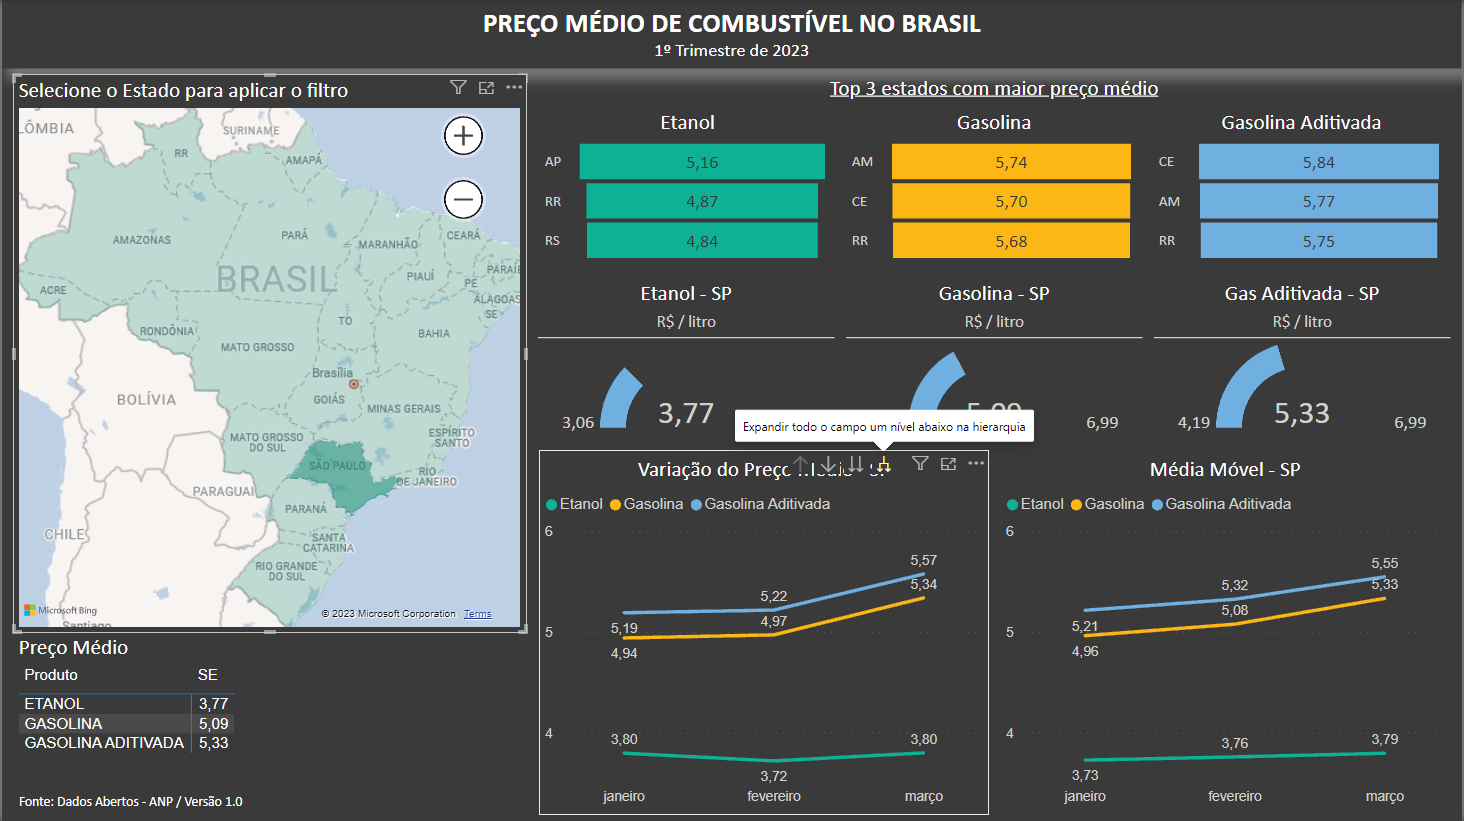

The page's visual inventory and layout, read from the dashboard file:
{"tool":"powerbi","page":{"name":"Preço Médio","canvas":[1280,720],"ordinal":0},"visuals":[{"type":"lineChart","fields":{"Category":["preco_tratado.Data_Coleta.Variation.Hierarquia de datas.Mês","preco_tratado.Data_Coleta.Variation.Hierarquia de datas.Dia"],"Y":["Medidas.MediaNacEtanol","Medidas.MediaNacGasComum","Medidas.MediaNacGasAdit"]},"box":[470.9,395,395,320],"z":0},{"type":"lineChart","fields":{"Y":["Medidas.Média móvel de MediaNacEtanol","Medidas.Média móvel de MediaNacGasComum","Medidas.Média móvel de MediaNacGasAdit"],"Category":["preco_tratado.Data_Coleta.Variation.Hierarquia de datas.Mês","preco_tratado.Data_Coleta.Variation.Hierarquia de datas.Dia"]},"box":[874.9,395,395.1,320],"z":1000},{"type":"filledMap","title":"Selecione o Estado para aplicar o filtro","fields":{"Category":["preco_tratado.Estado"]},"box":[10,65,450,490],"z":2000},{"type":"pivotTable","fields":{"Rows":["preco_tratado.Produto"],"Columns":["preco_tratado.Regiao"],"Values":["Medidas.MediaValorVenda"]},"box":[10,554.7,450,123.7],"z":3000},{"type":"funnel","title":"Gasolina ","fields":{"Category":["TOPMediaGas.Estado"],"Y":["Avg(TOPMediaGas.GAS)"]},"box":[740.2,95,260,140.1],"z":4000},{"type":"textbox","box":[0,0,1280,60],"z":5000},{"type":"funnel","title":"Gasolina Aditivada","fields":{"Category":["TOPMediaGasAdit.Estado"],"Y":["Avg(TOPMediaGasAdit.GAS_ADIT)"]},"box":[1009.6,95,260.7,140.1],"z":6000},{"type":"funnel","title":"Etanol","fields":{"Category":["TOPMediaEtanol.Estado"],"Y":["Avg(TOPMediaEtanol.ETANOL)"]},"box":[470.8,95,260.7,140.1],"z":7000},{"type":"textbox","title":"Top 3 estados com maior preço médio","box":[470.2,65,800.1,30],"z":8000},{"type":"textbox","box":[10,690,225.5,25.9],"z":9000},{"type":"textbox","box":[470,245.1,260,52],"z":10000},{"type":"gauge","fields":{"Y":["Medidas.MediaNacEtanol"],"MinValue":["Medidas.MinMediaNacEtanol"],"MaxValue":["Medidas.MaxMediaNacEtanol"]},"box":[470,297.6,259.7,87.5],"z":11000},{"type":"textbox","box":[740,245,260,52],"z":12000},{"type":"gauge","fields":{"Y":["Medidas.MediaNacGasComum"],"MinValue":["Medidas.MinMediaNacGas"],"MaxValue":["Medidas.MaxMediaNacGas"]},"box":[740,297,259.7,87.5],"z":13000},{"type":"textbox","box":[1010.7,245,260,52],"z":14000},{"type":"gauge","fields":{"Y":["Medidas.MediaNacGasAdit"],"MinValue":["Medidas.MinMediaNacGasAdt"],"MaxValue":["Medidas.MaxMediaNacGasAdt"]},"box":[1010.7,297,259.7,87.5],"z":15000}]}

Visuals, with their boxes in screenshot pixels (x1, y1, x2, y2), scaled from the page's 1280x720 canvas onto the 1464x821 screenshot:
lineChart - preco_tratado.Data_Coleta.Variation.Hierarquia de datas.Mês x preco_tratado.Data_Coleta.Variation.Hierarquia de datas.Dia: 539,450,990,815
lineChart - Medidas.Média móvel de MediaNacEtanol x Medidas.Média móvel de MediaNacGasComum: 1001,450,1453,815
"Selecione o Estado para aplicar o filtro" filledMap: 11,74,526,633
pivotTable - preco_tratado.Produto x preco_tratado.Regiao: 11,633,526,774
"Gasolina " funnel: 847,108,1144,268
textbox: 0,0,1463,68
"Gasolina Aditivada" funnel: 1155,108,1453,268
"Etanol" funnel: 538,108,837,268
"Top 3 estados com maior preço médio" textbox: 538,74,1453,108
textbox: 11,787,269,816
textbox: 538,279,835,339
gauge - Medidas.MediaNacEtanol x Medidas.MinMediaNacEtanol: 538,339,835,439
textbox: 846,279,1144,339
gauge - Medidas.MediaNacGasComum x Medidas.MinMediaNacGas: 846,339,1143,438
textbox: 1156,279,1453,339
gauge - Medidas.MediaNacGasAdit x Medidas.MinMediaNacGasAdt: 1156,339,1453,438
